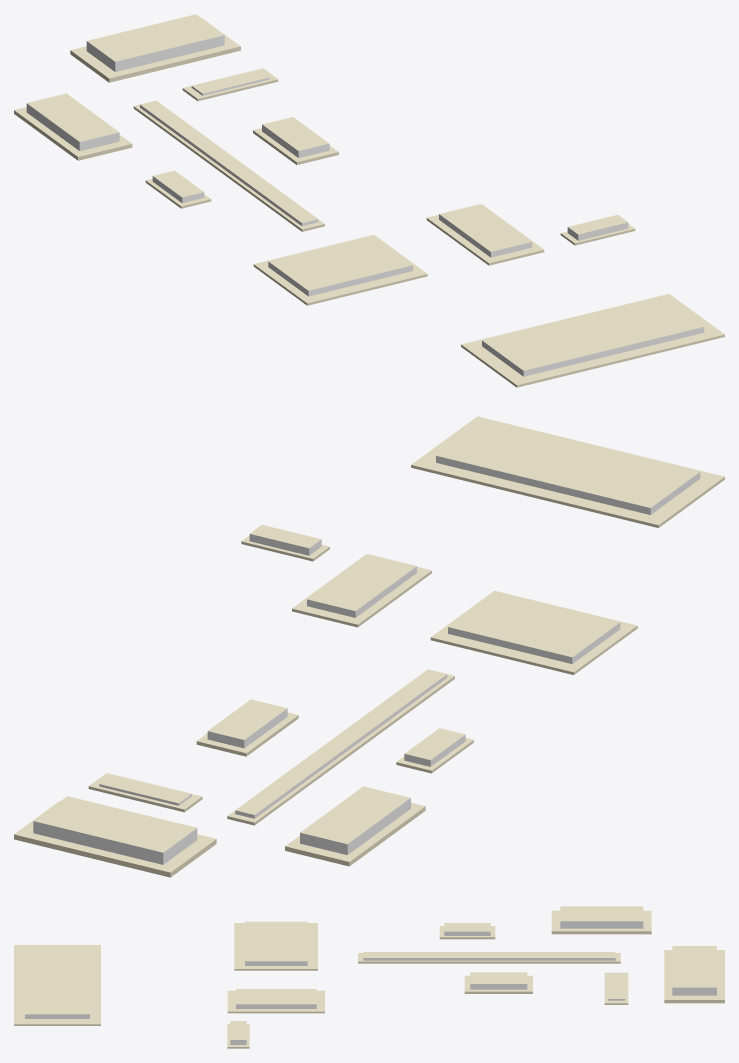
Rendered from CeilingBlocks03.FBX.
3 renders of one model, top to bottom at view 1: azimuth 30°, elevation 25°; view 2: azimuth 150°, elevation 25°; view 3: azimuth 270°, elevation 25°, orthographic. The views are drawn at different scales.
Parts seen in each view (by area): view 1: CeilingBlock001, CeilingBlock002, CeilingBlock008, CeilingBlock004, CeilingBlock006, CeilingBlock003, CeilingBlock007, CeilingBlock009, CeilingBlock005, CeilingBlock010; view 2: CeilingBlock001, CeilingBlock002, CeilingBlock008, CeilingBlock004, CeilingBlock006, CeilingBlock003, CeilingBlock007, CeilingBlock009, CeilingBlock005, CeilingBlock010; view 3: CeilingBlock001, CeilingBlock002, CeilingBlock008, CeilingBlock004, CeilingBlock006, CeilingBlock003, CeilingBlock007, CeilingBlock005, CeilingBlock009, CeilingBlock010.
Boxes of the visible parts, left/top/right/bottom form: CeilingBlock001: left=461, top=294, right=724, bottom=387; CeilingBlock002: left=253, top=235, right=427, bottom=305; CeilingBlock008: left=70, top=14, right=240, bottom=82; CeilingBlock004: left=133, top=100, right=324, bottom=231; CeilingBlock006: left=14, top=93, right=132, bottom=160; CeilingBlock003: left=426, top=204, right=544, bottom=265; CeilingBlock007: left=253, top=117, right=338, bottom=164; CeilingBlock009: left=182, top=68, right=278, bottom=101; CeilingBlock005: left=145, top=170, right=211, bottom=208; CeilingBlock010: left=560, top=214, right=635, bottom=245; CeilingBlock001: left=411, top=416, right=724, bottom=527; CeilingBlock002: left=430, top=590, right=637, bottom=674; CeilingBlock008: left=14, top=796, right=216, bottom=877; CeilingBlock004: left=227, top=669, right=454, bottom=825; CeilingBlock006: left=285, top=786, right=425, bottom=866; CeilingBlock003: left=292, top=554, right=431, bottom=627; CeilingBlock007: left=196, top=699, right=298, bottom=756; CeilingBlock009: left=88, top=773, right=202, bottom=812; CeilingBlock005: left=396, top=728, right=473, bottom=773; CeilingBlock010: left=241, top=525, right=329, bottom=561; CeilingBlock001: left=14, top=945, right=100, bottom=1025; CeilingBlock002: left=234, top=921, right=317, bottom=970; CeilingBlock008: left=664, top=946, right=724, bottom=1003; CeilingBlock004: left=358, top=952, right=620, bottom=963; CeilingBlock006: left=551, top=906, right=651, bottom=934; CeilingBlock003: left=227, top=989, right=324, bottom=1013; CeilingBlock007: left=464, top=972, right=532, bottom=993; CeilingBlock005: left=439, top=923, right=495, bottom=939; CeilingBlock009: left=604, top=972, right=628, bottom=1004; CeilingBlock010: left=227, top=1021, right=249, bottom=1048.
Bounding box in the file's own units: 3466 × 178 × 7845.
